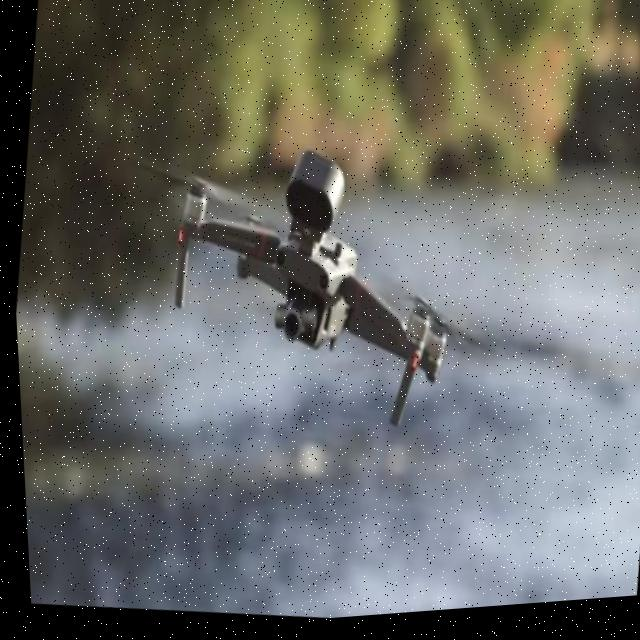drones: (103, 107, 480, 447)
